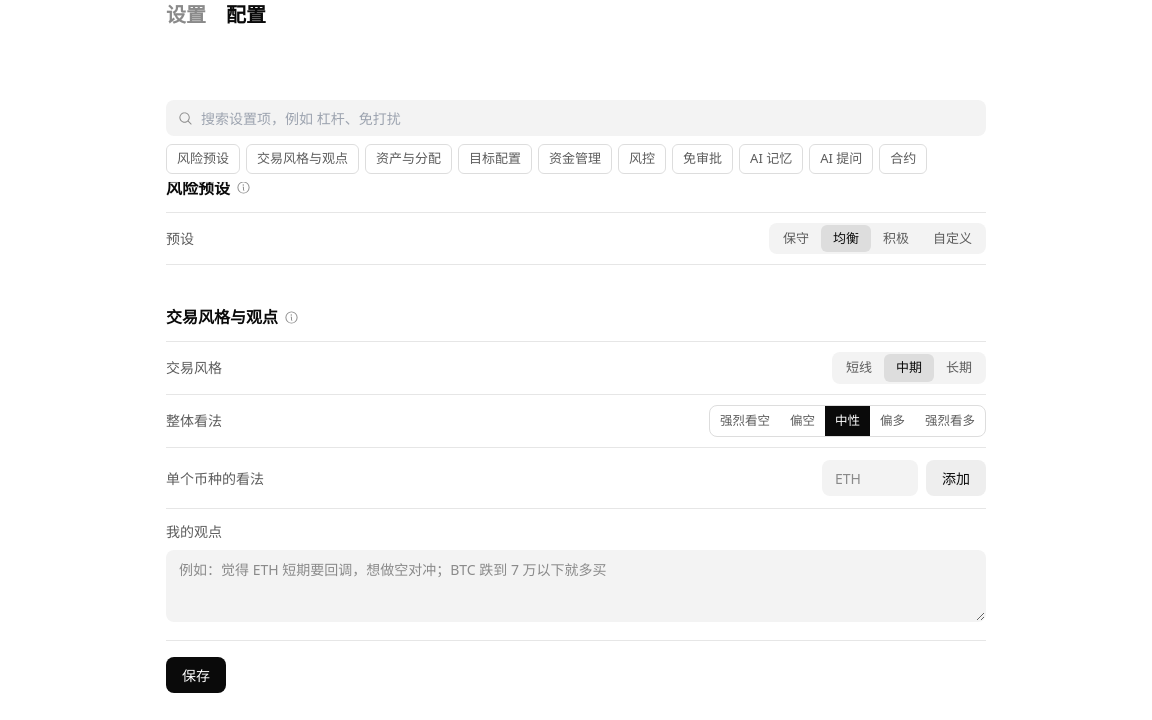
Test: settings search and category bar › finds a setting row on this page by its label
Type "做空" into the field labelled "搜索设置".
click(588, 118); type("做空")  # box [201,100,974,136]
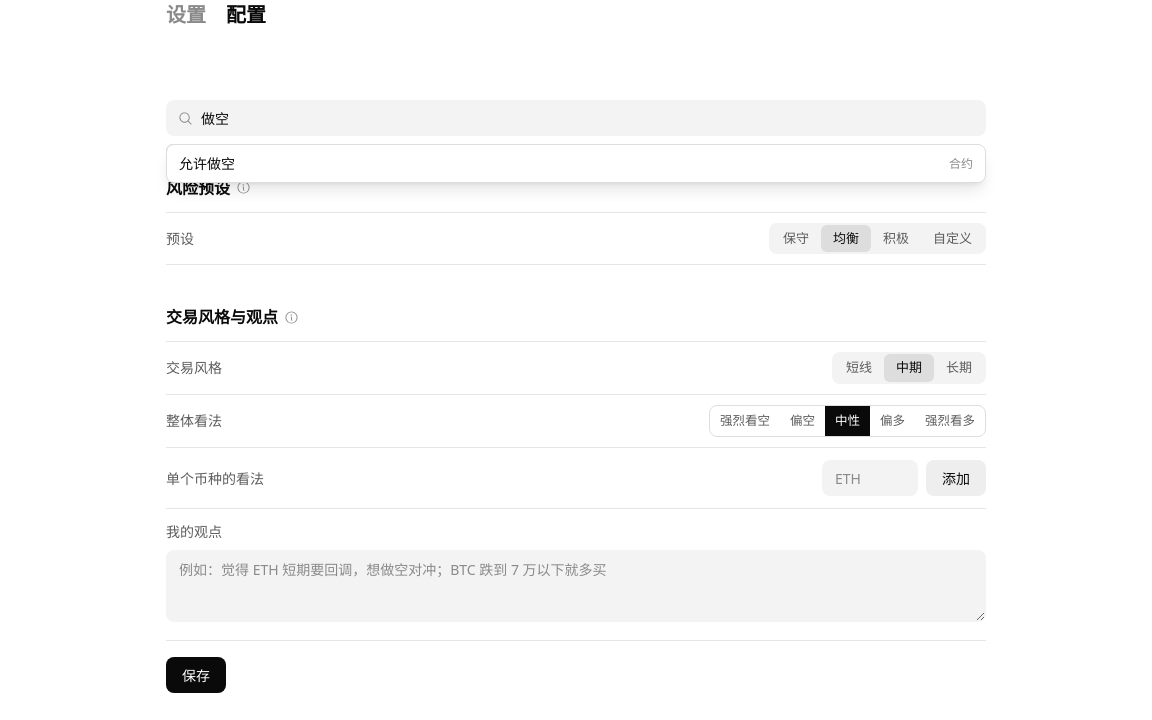
expect the option "允许做空 合约" is shown: met
Click the option "允许做空 合约".
click(207, 164)  # box [167,145,985,182]
(page scrolled)
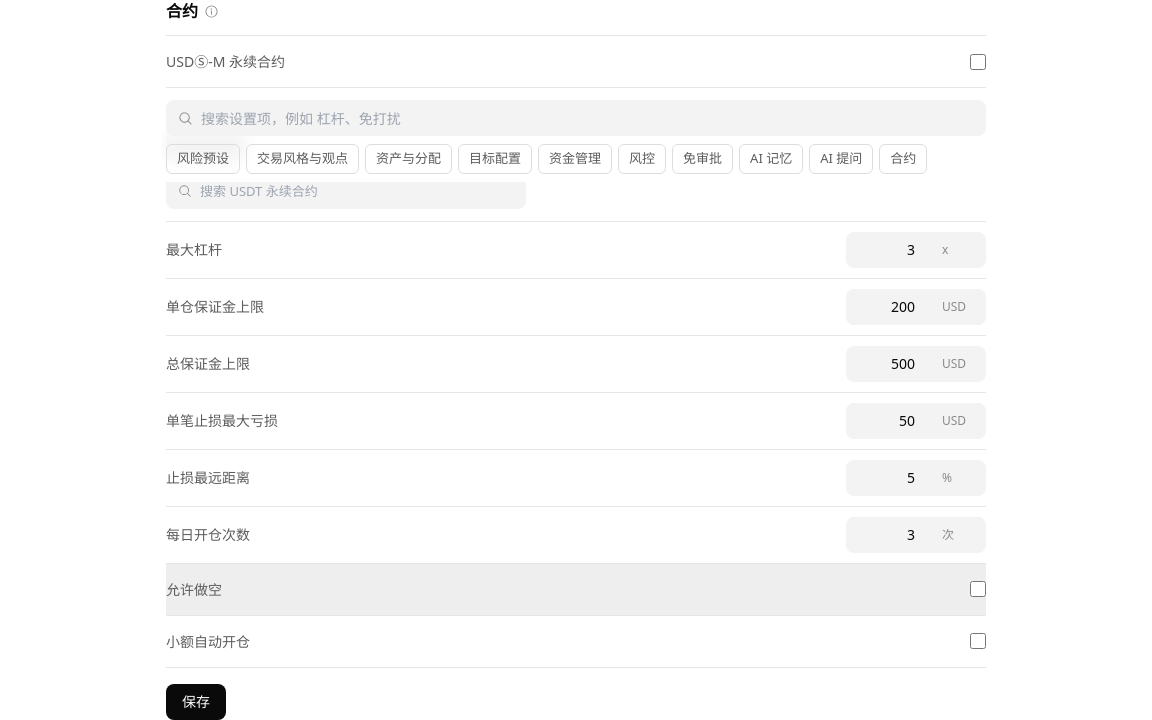
expect the list is gone: met
